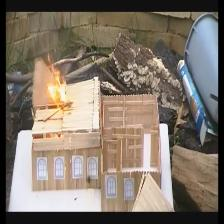fire: (48, 68, 72, 110)
